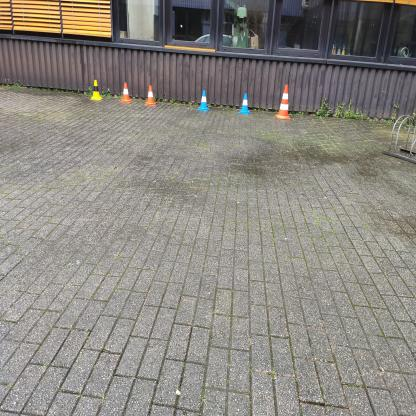Cones_big: (272, 75, 295, 129)
Cones_small_blue: (197, 81, 210, 116), (241, 86, 249, 115)
Cones_small_orange: (116, 80, 134, 109), (143, 82, 160, 109)
Cones_small_yellow: (90, 75, 102, 105)
